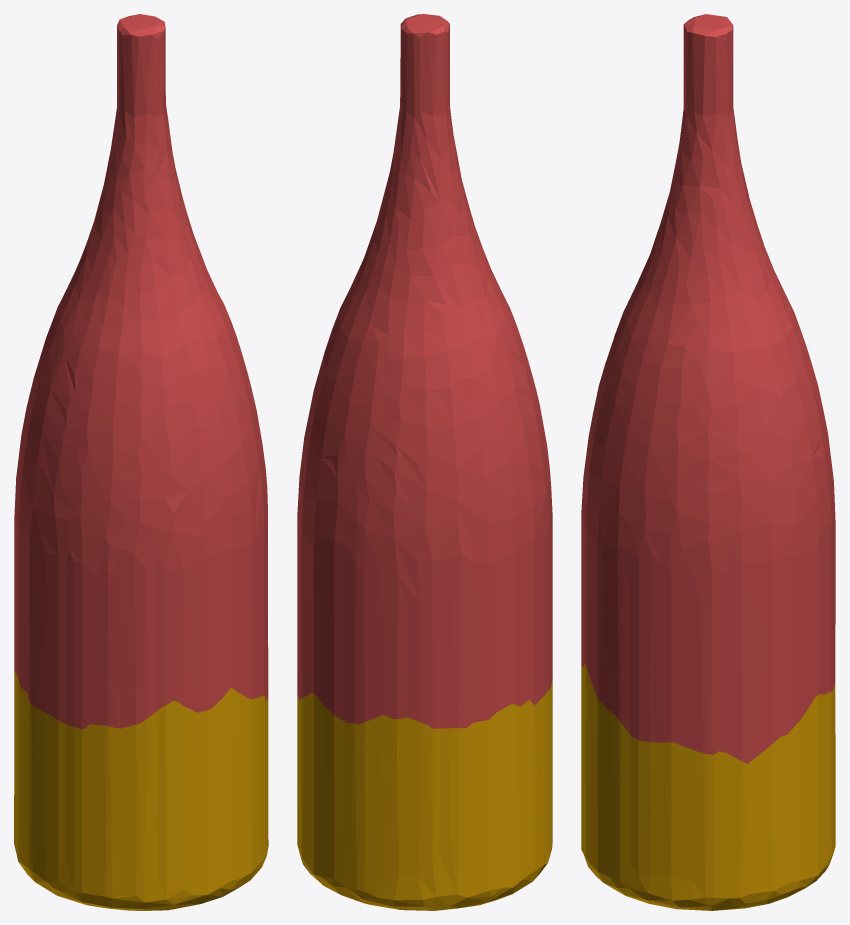
The model's file is fractured_55_2pcs.glb.
3 views of the same model, side by side, from view 1: azimuth 30°, elevation 25°; view 2: azimuth 150°, elevation 25°; view 3: azimuth 270°, elevation 25° (orthographic).
Visible parts, largest first — view 1: piece_1.obj, piece_0.obj; view 2: piece_1.obj, piece_0.obj; view 3: piece_1.obj, piece_0.obj.
Part boxes in pixels (box(x1,y1,x2,y2)): piece_1.obj: box(14, 14, 268, 729); piece_0.obj: box(14, 672, 268, 910); piece_1.obj: box(297, 14, 552, 728); piece_0.obj: box(297, 680, 552, 910); piece_1.obj: box(581, 14, 835, 763); piece_0.obj: box(581, 663, 835, 910).
Bounding box in the file's own units: 0.2734 × 1 × 0.2733.
